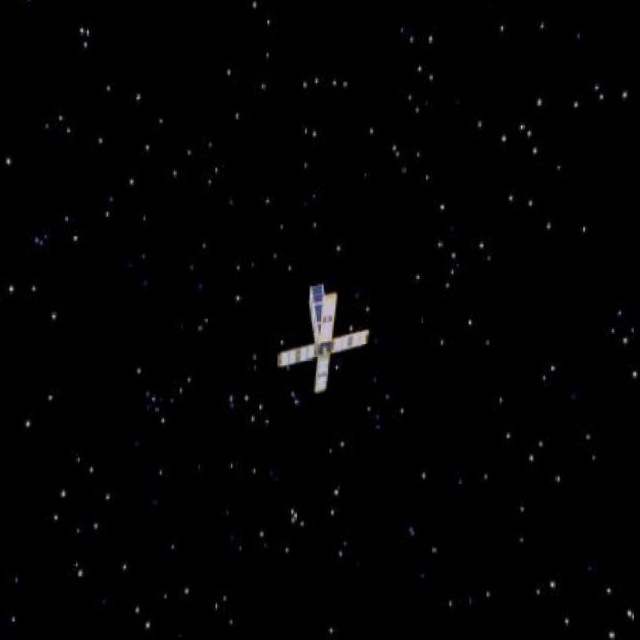medium_debris: (269, 280, 378, 401)
